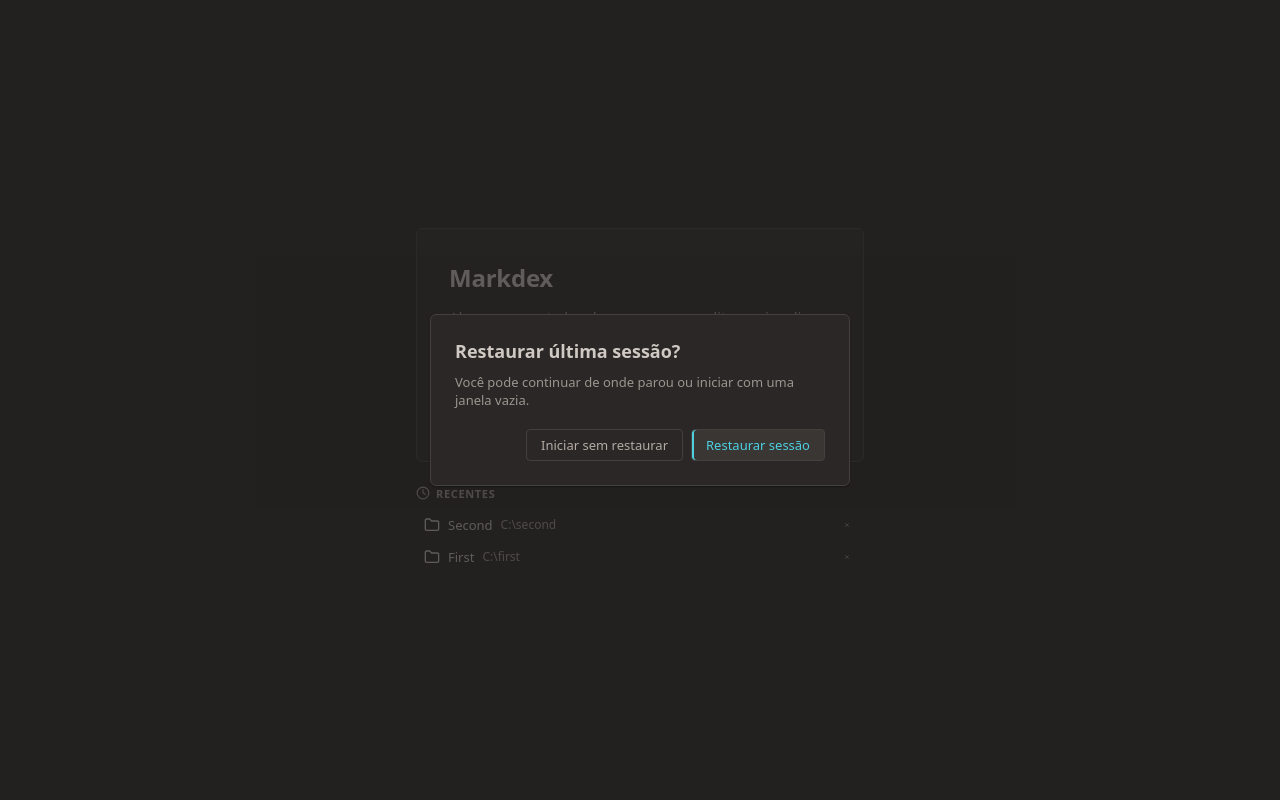
Test case: App › restores the saved project after confirmation
Click the button "Restaurar sessão" at coordinates (758, 445), box top-left (691, 429), bottom-right (825, 461)
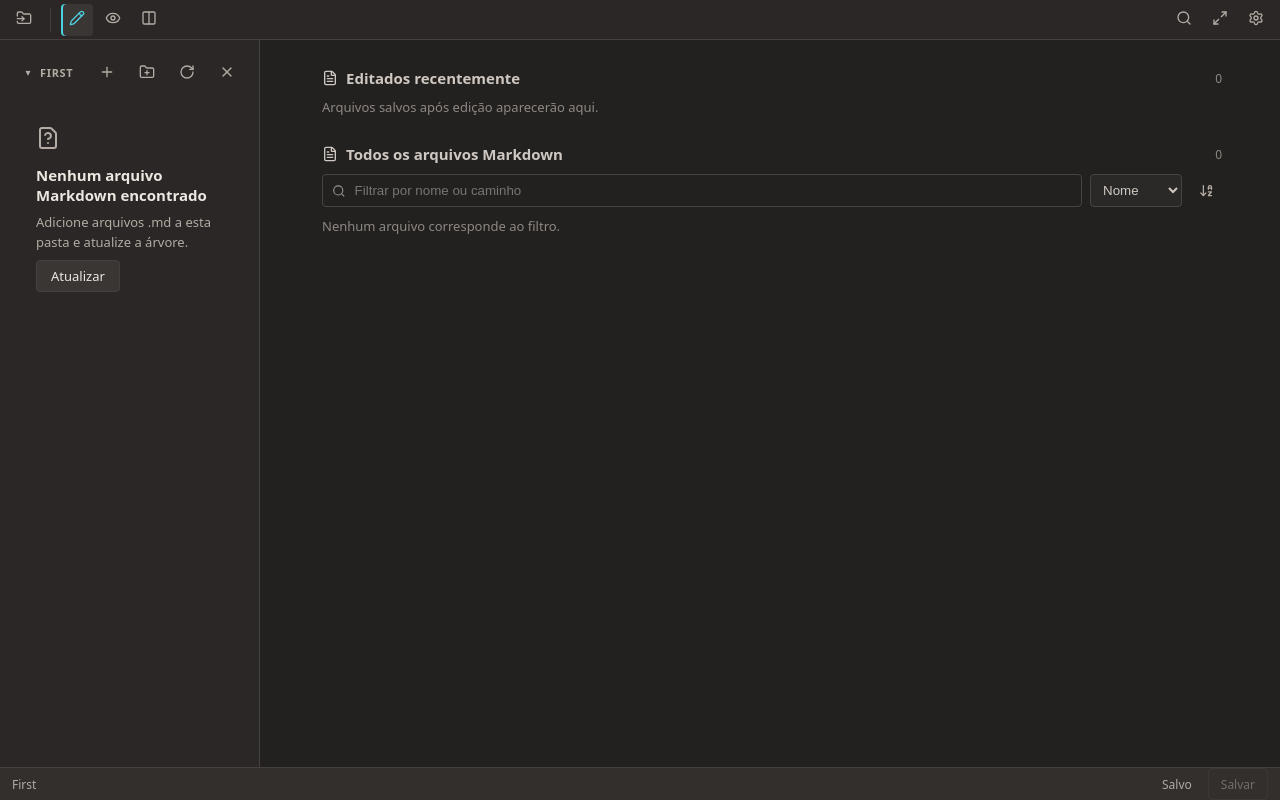
Expected: the heading "Restaurar última sessão?" is gone
